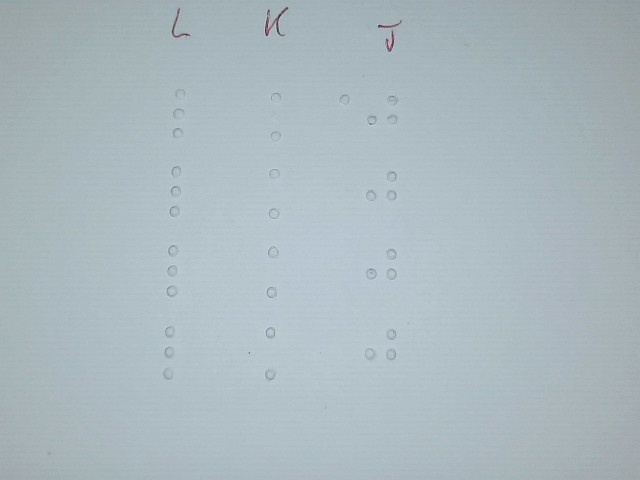J: (363, 88, 402, 142), (361, 163, 400, 217), (362, 241, 401, 295), (361, 322, 400, 376)
K: (261, 89, 300, 143), (260, 167, 299, 221), (259, 244, 298, 298), (256, 326, 295, 380)
L: (156, 324, 195, 383), (166, 86, 205, 140), (163, 164, 202, 218), (159, 243, 198, 297)
